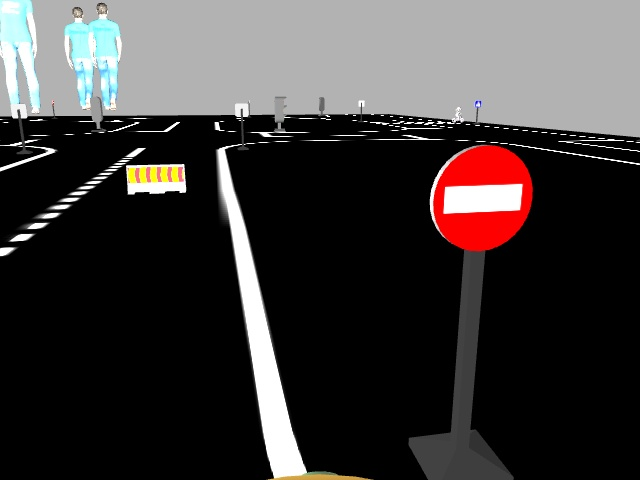ClosedRoadStand: (128, 165, 185, 192)
NoEntry: (429, 144, 533, 245)
